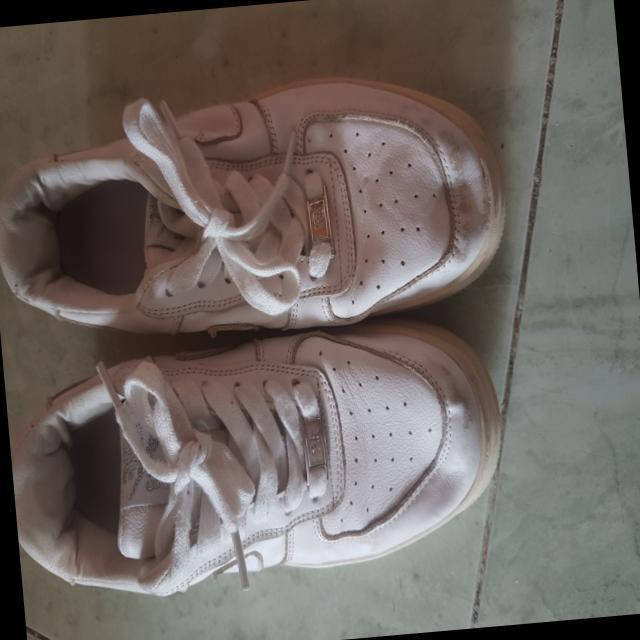nike fake air force: (118, 285, 640, 584), (123, 27, 634, 323)
